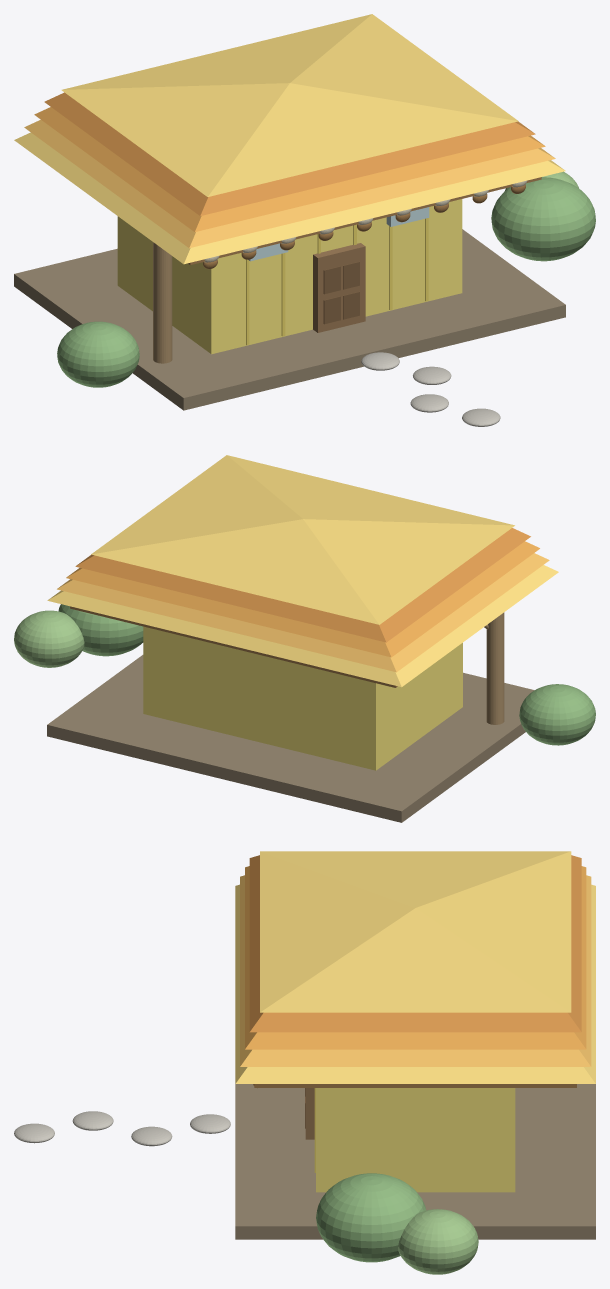
Rendered from CasaCasilla52.glb.
The picture shows the model from 3 angles, top to bottom: view 1: azimuth 30°, elevation 25°; view 2: azimuth 150°, elevation 25°; view 3: azimuth 270°, elevation 25°; orthographic projection. The views are drawn at different scales.
Visible parts, largest first — view 1: Casa1_Techo_Cumbrera, Casa1_Plataforma, Casa1_Paredes, Casa1_Techo_Capa3, Casa1_Techo_Capa0, Casa1_Techo_Capa1, Casa1_Techo_Capa2, Casa1_Arbusto, Casa1_Arbusto.002, Casa1_Puerta, Casa1_Poste, Casa1_Fascia (+4 smaller); view 2: Casa1_Techo_Cumbrera, Casa1_Paredes, Casa1_Plataforma, Casa1_Techo_Capa3, Casa1_Techo_Capa0, Casa1_Techo_Capa1, Casa1_Techo_Capa2, Casa1_Arbusto.002, Casa1_Arbusto.001, Casa1_Arbusto, Casa1_Poste, Casa1_Fascia; view 3: Casa1_Techo_Cumbrera, Casa1_Plataforma, Casa1_Paredes, Casa1_Techo_Capa3, Casa1_Techo_Capa1, Casa1_Techo_Capa2, Casa1_Techo_Capa0, Casa1_Arbusto, Casa1_Arbusto.001, Casa1_Fascia, Casa1_Piedra_1, Casa1_Piedra_0 (+2 smaller).
Part boxes in pixels (box(x1,y1,x2,y2)): Casa1_Techo_Cumbrera: box(61, 14, 518, 196); Casa1_Plataforma: box(14, 229, 565, 410); Casa1_Paredes: box(117, 199, 462, 354); Casa1_Techo_Capa3: box(44, 92, 535, 216); Casa1_Techo_Capa0: box(14, 132, 565, 264); Casa1_Techo_Capa1: box(24, 119, 555, 248); Casa1_Techo_Capa2: box(34, 107, 545, 231); Casa1_Arbusto: box(491, 177, 595, 261); Casa1_Arbusto.002: box(57, 321, 139, 387); Casa1_Puerta: box(313, 243, 365, 332); Casa1_Poste: box(153, 242, 172, 363); Casa1_Fascia: box(188, 177, 541, 265); Casa1_Techo_Cumbrera: box(91, 455, 514, 624); Casa1_Paredes: box(143, 626, 462, 770); Casa1_Plataforma: box(47, 655, 534, 822); Casa1_Techo_Capa3: box(75, 528, 530, 642); Casa1_Techo_Capa0: box(47, 565, 558, 687); Casa1_Techo_Capa1: box(57, 553, 549, 672); Casa1_Techo_Capa2: box(66, 541, 539, 657); Casa1_Arbusto.002: box(519, 684, 595, 745); Casa1_Arbusto.001: box(14, 610, 84, 667); Casa1_Arbusto: box(58, 604, 143, 656); Casa1_Poste: box(486, 612, 504, 724); Casa1_Fascia: box(70, 606, 397, 687); Casa1_Techo_Cumbrera: box(260, 851, 571, 1012); Casa1_Plataforma: box(235, 1084, 595, 1239); Casa1_Paredes: box(316, 1088, 515, 1192); Casa1_Techo_Capa3: box(249, 855, 581, 1032); Casa1_Techo_Capa1: box(240, 875, 591, 1066); Casa1_Techo_Capa2: box(245, 866, 586, 1049); Casa1_Techo_Capa0: box(235, 884, 595, 1083); Casa1_Arbusto: box(316, 1173, 425, 1262); Casa1_Arbusto.001: box(398, 1209, 478, 1274); Casa1_Fascia: box(254, 1084, 576, 1087); Casa1_Piedra_1: box(131, 1126, 172, 1146); Casa1_Piedra_0: box(190, 1114, 230, 1133).
Bounding box in the file's own units: 4.73 × 1.75 × 3.97.
